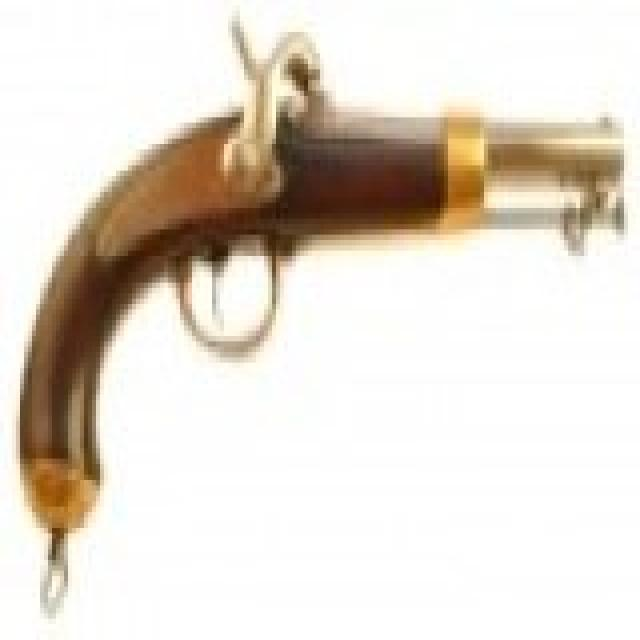Gun: (8, 24, 633, 552)
